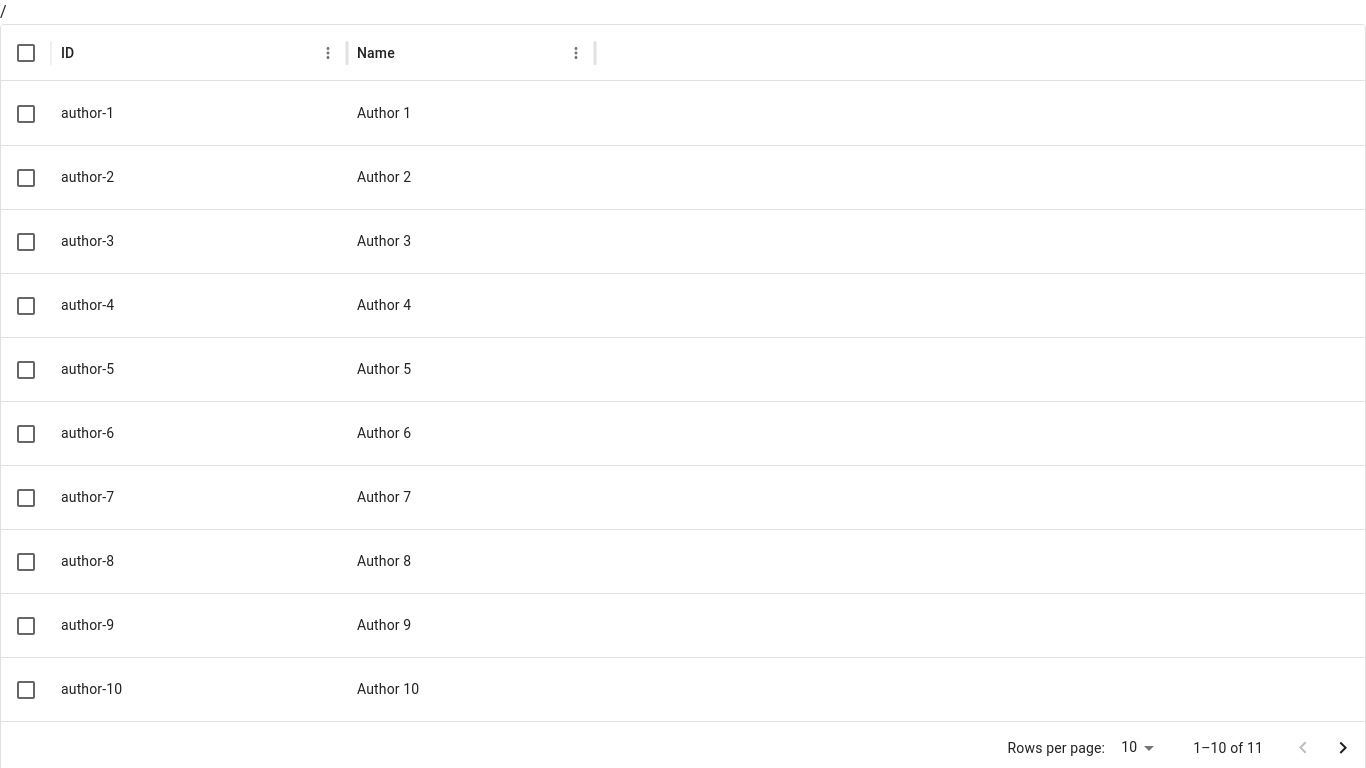
AuthorsTable › row selection › selects only the rows on the current page when selecting all
Check: the text "Author 1" is shown, box 357,105 -> 411,121
Click the checkbox named "Select all rows": (26, 52) 14,40 -> 38,64
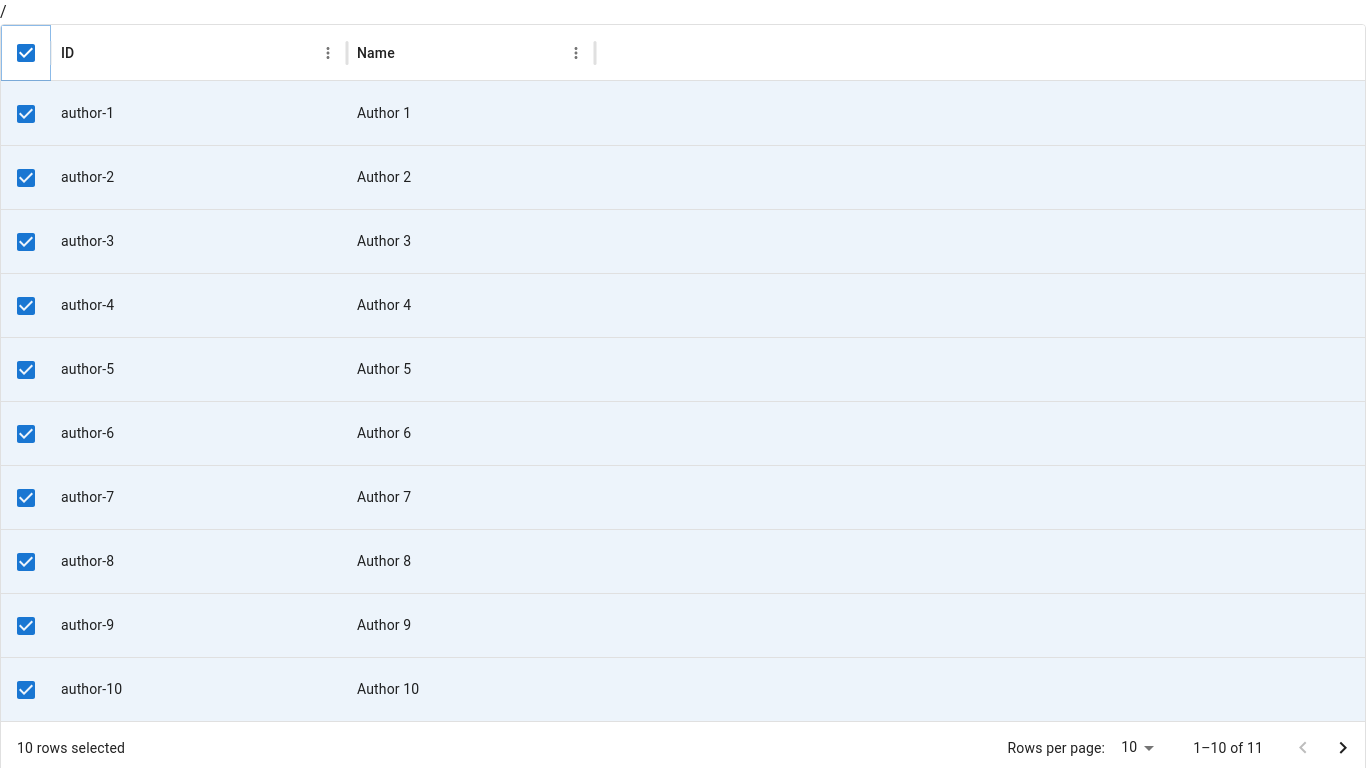
Click the button named "Go to next page": (1343, 748) 1323,728 -> 1363,767
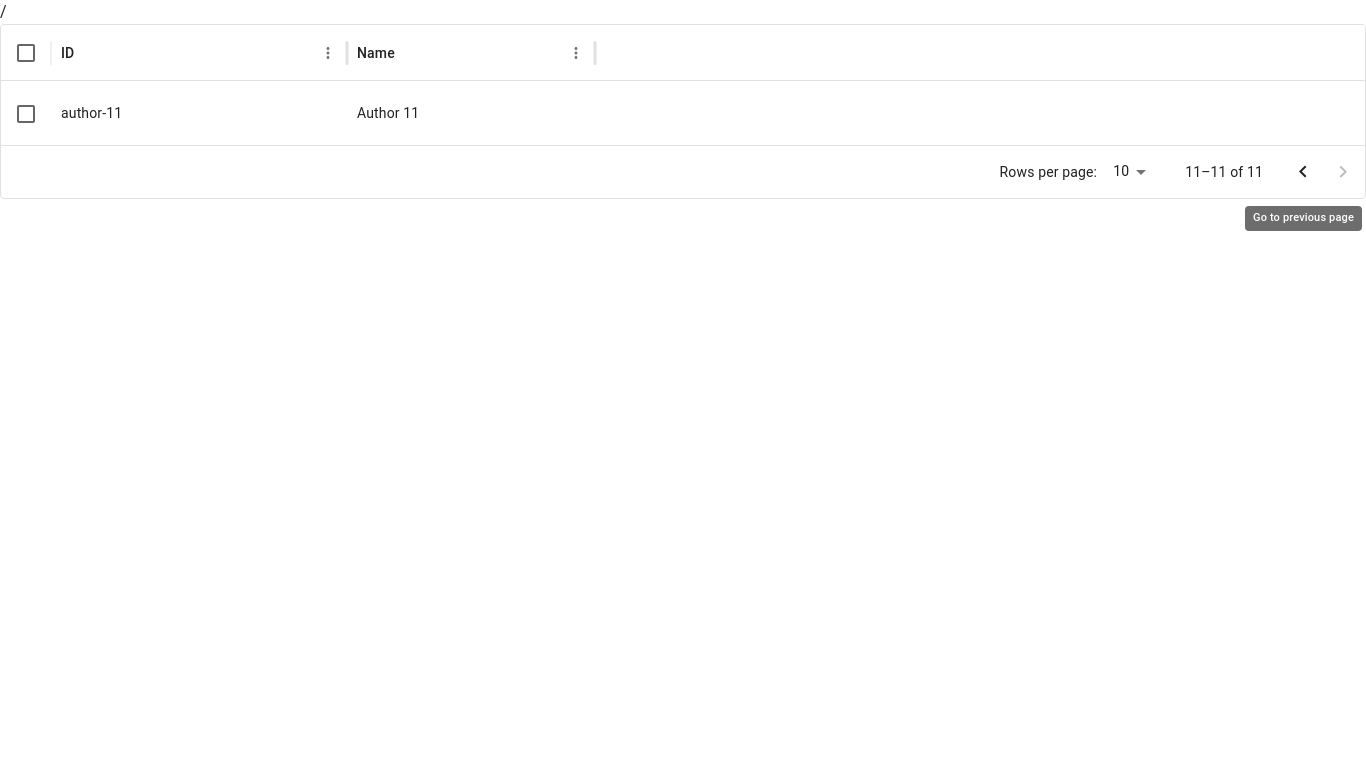
Check: the text "Author 11" is shown, box 357,105 -> 419,121
Check: the checkbox named "Select row" is not checked, box 14,102 -> 38,126
